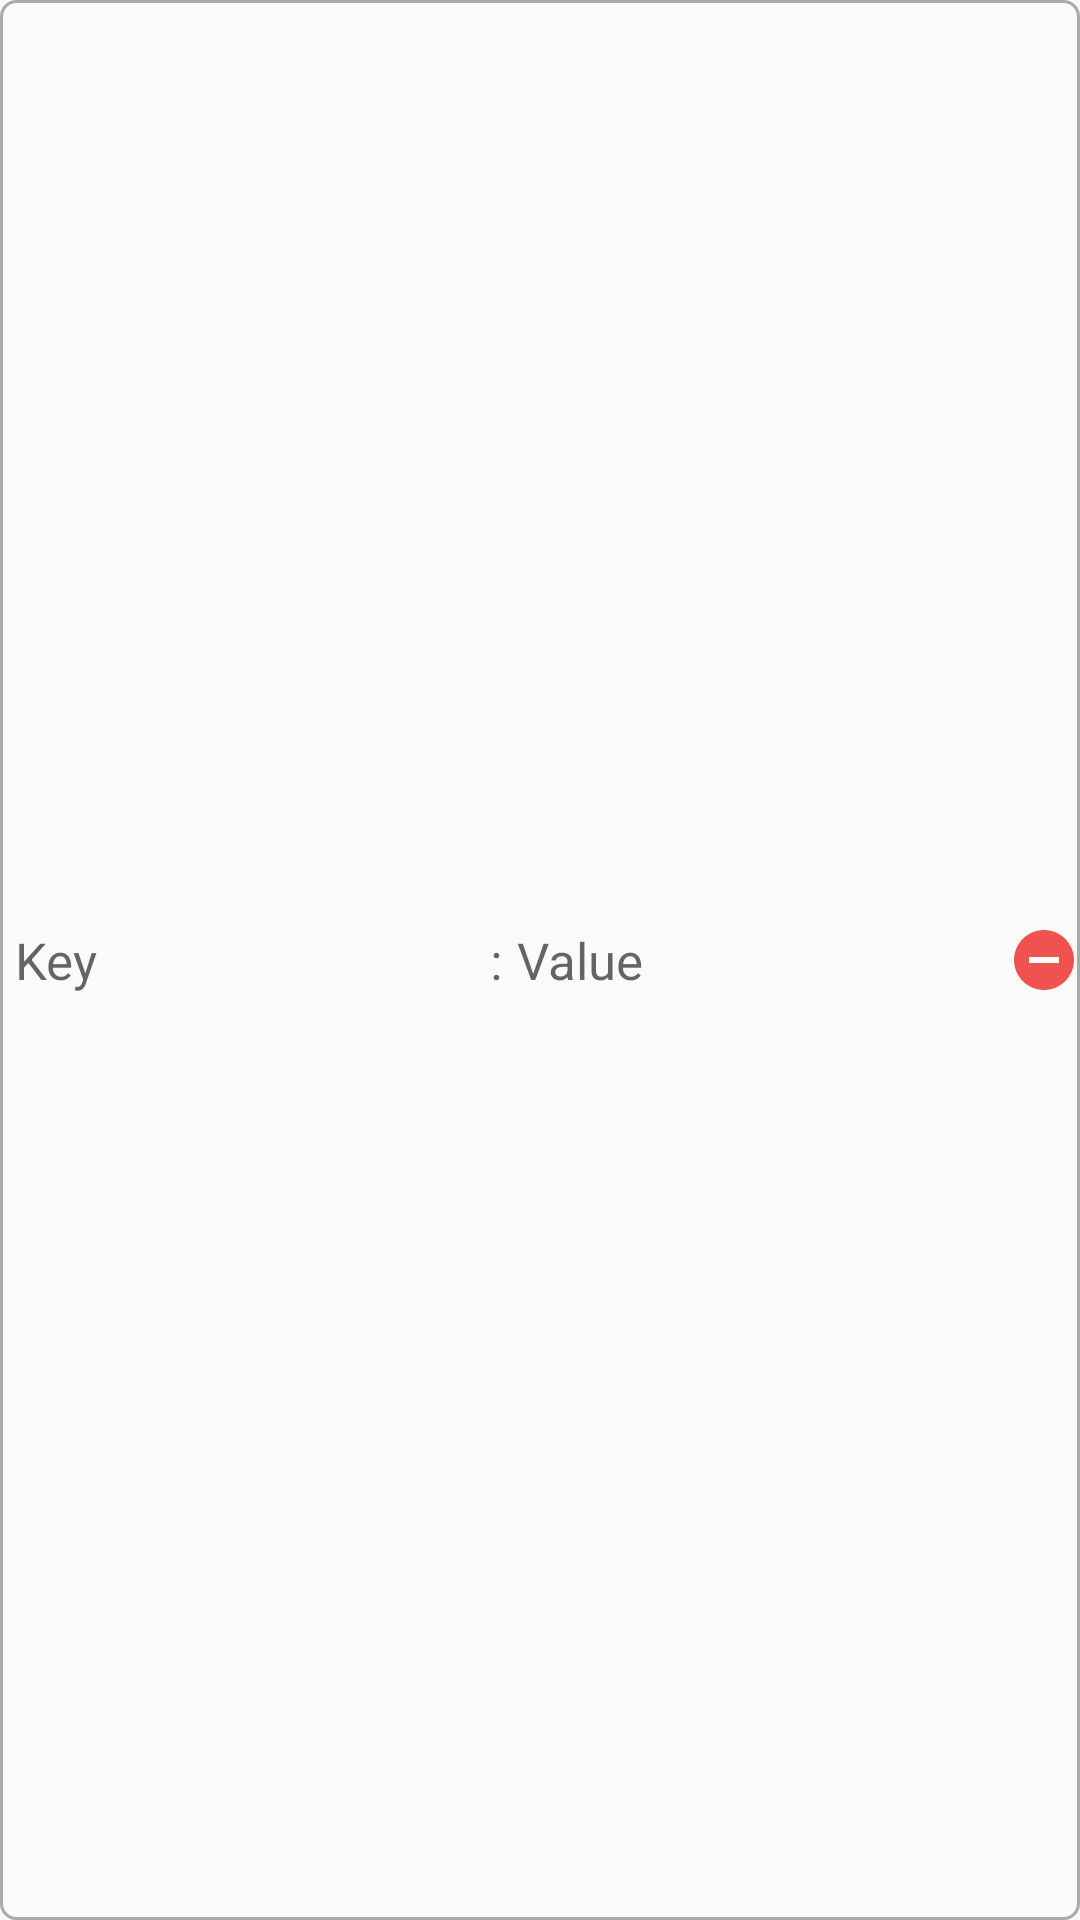

Point at icon controls on the screen. Image size 1080x1920, points as (x=x, y=y).
remove: (x=1044, y=960)
